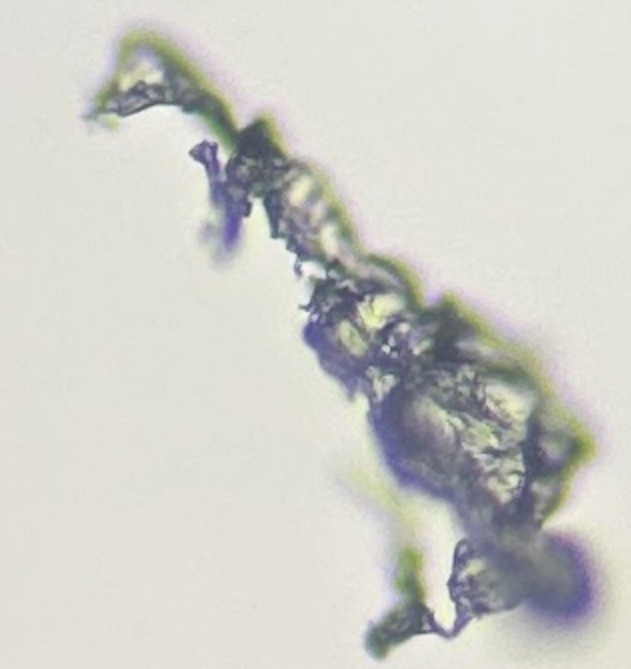microplastic: (80, 29, 594, 662)
